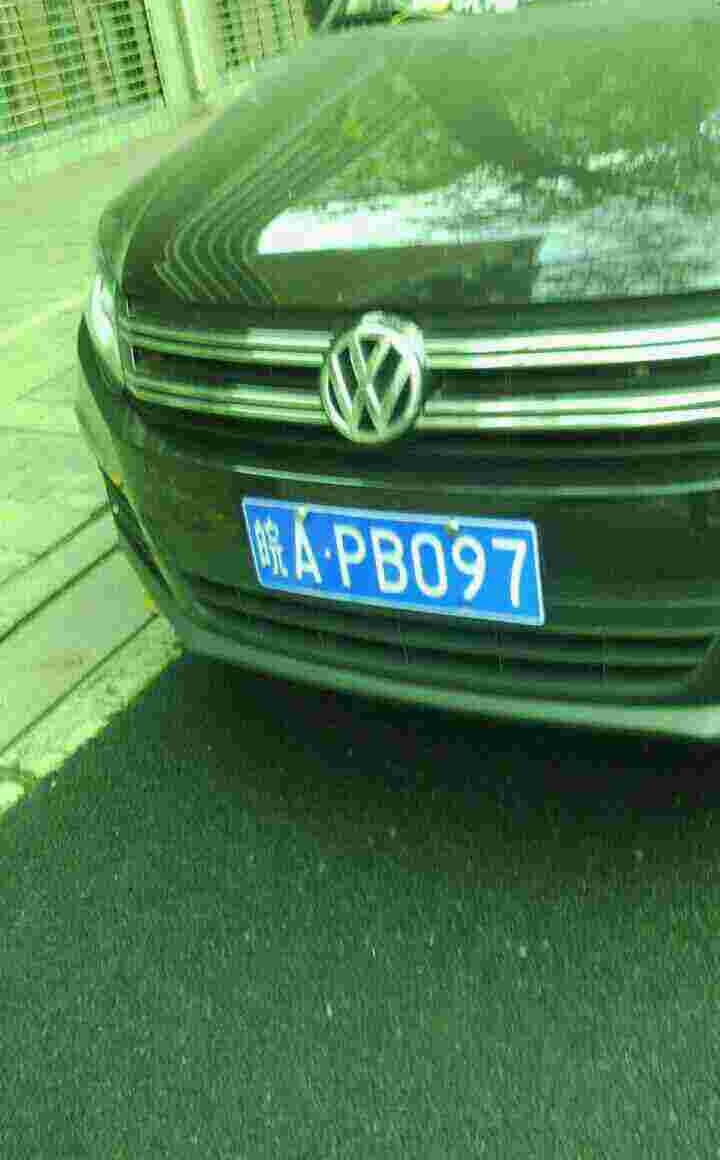license_plate: (231, 503, 555, 621)
